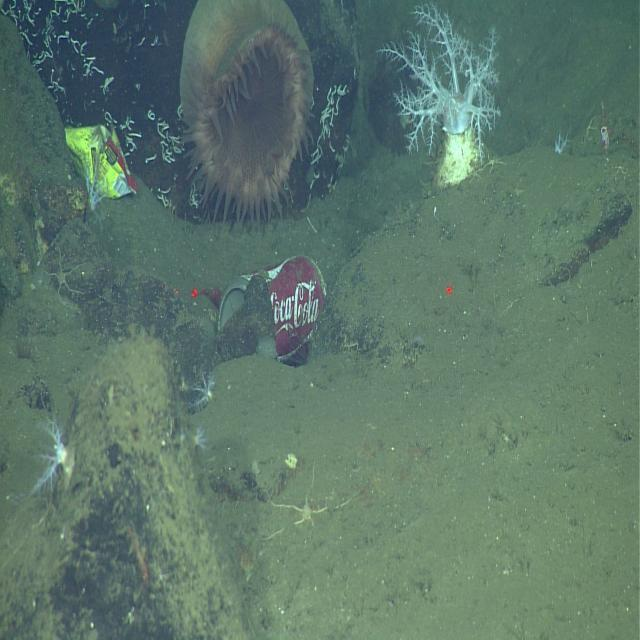Brittle Star: (264, 465, 350, 552), (46, 250, 84, 312)
Not Brittle Star: (174, 0, 321, 243), (374, 4, 506, 190), (214, 250, 332, 372), (63, 114, 140, 205), (23, 407, 81, 509), (185, 364, 223, 418), (183, 419, 213, 462), (550, 122, 572, 158), (45, 78, 68, 100), (321, 83, 334, 116), (55, 27, 70, 46), (155, 118, 167, 140), (132, 34, 147, 50), (79, 38, 90, 58), (144, 151, 158, 166), (336, 82, 348, 98), (90, 63, 104, 75), (328, 139, 338, 155), (44, 44, 54, 60), (147, 109, 156, 122)
